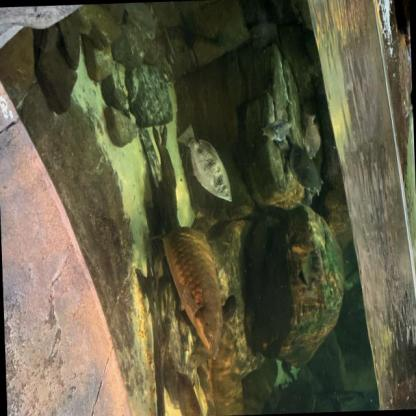fish: (161, 217, 225, 361), (174, 122, 234, 204), (117, 2, 157, 43), (298, 111, 323, 161), (260, 116, 296, 143), (187, 335, 210, 370)
